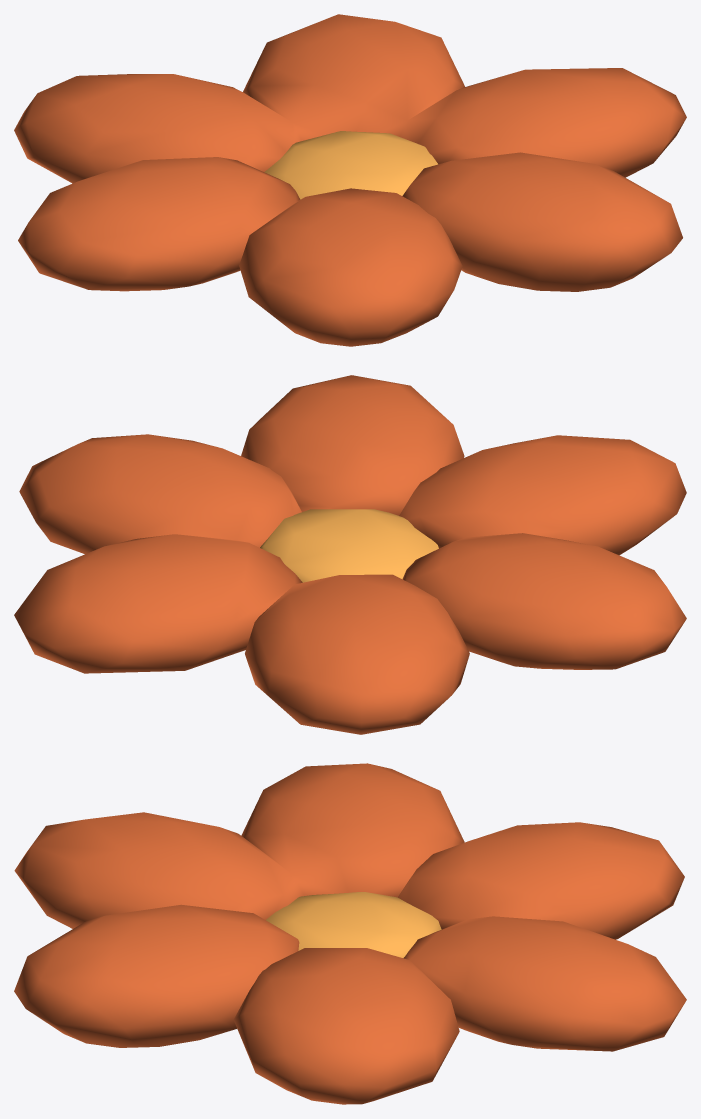
Rendered from flowers3.glb.
3 renders of one model, top to bottom at view 1: azimuth 30°, elevation 25°; view 2: azimuth 150°, elevation 25°; view 3: azimuth 270°, elevation 25°, orthographic.
Parts seen in each view (by area): view 1: flowers3; view 2: flowers3; view 3: flowers3.
Boxes of the visible parts, x1=… form: flowers3: x1=14, y1=14, x2=686, y2=346; flowers3: x1=14, y1=375, x2=686, y2=734; flowers3: x1=14, y1=763, x2=686, y2=1104.
Size of the model in its own units: 1.32 by 0.16 by 1.19.
